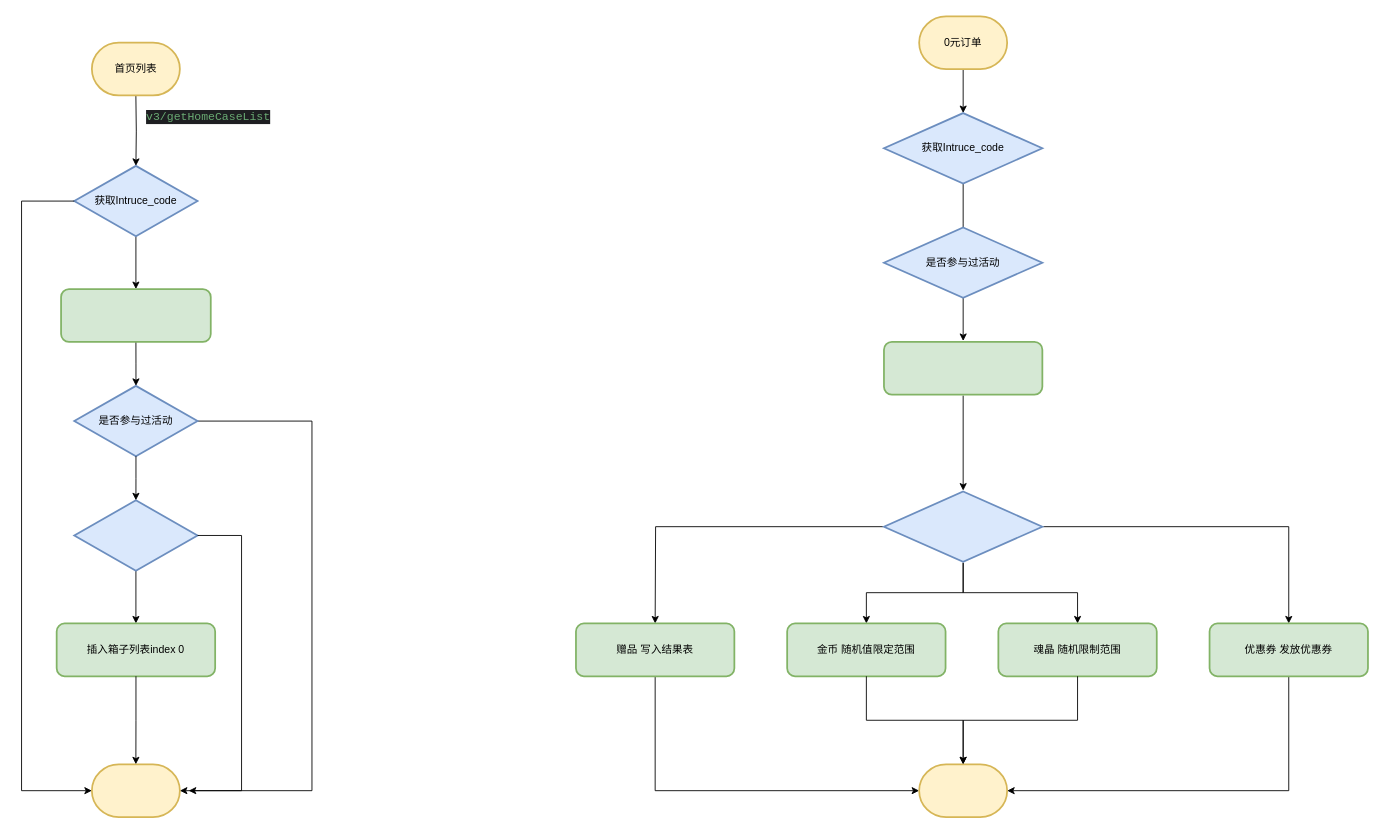
Some shapes in this 1384 by 832 pixel diagram are drawn without their labels. The shapes that lost their labels are listed below. From the top down, each one's centre as x and y in pixels, then its label:
the point at 135,315: 查询对应的code码的箱子
the point at 963,368: 抽奖
the point at 135,535: 有对应code的箱子
the point at 963,526: 赠品类型
the point at 135,790: 返回箱子结果
the point at 963,790: 结束
